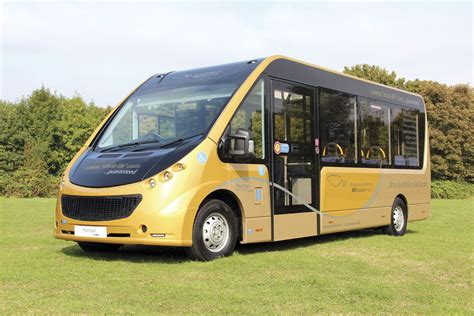bus: (67, 65, 434, 252)
